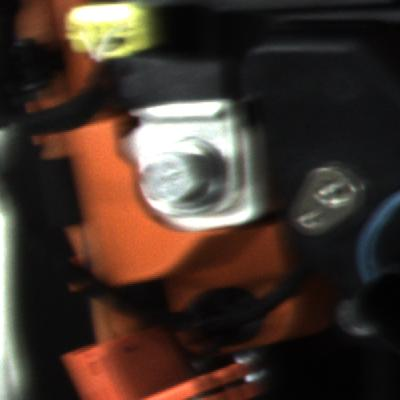nut_b: (130, 132, 222, 225)
